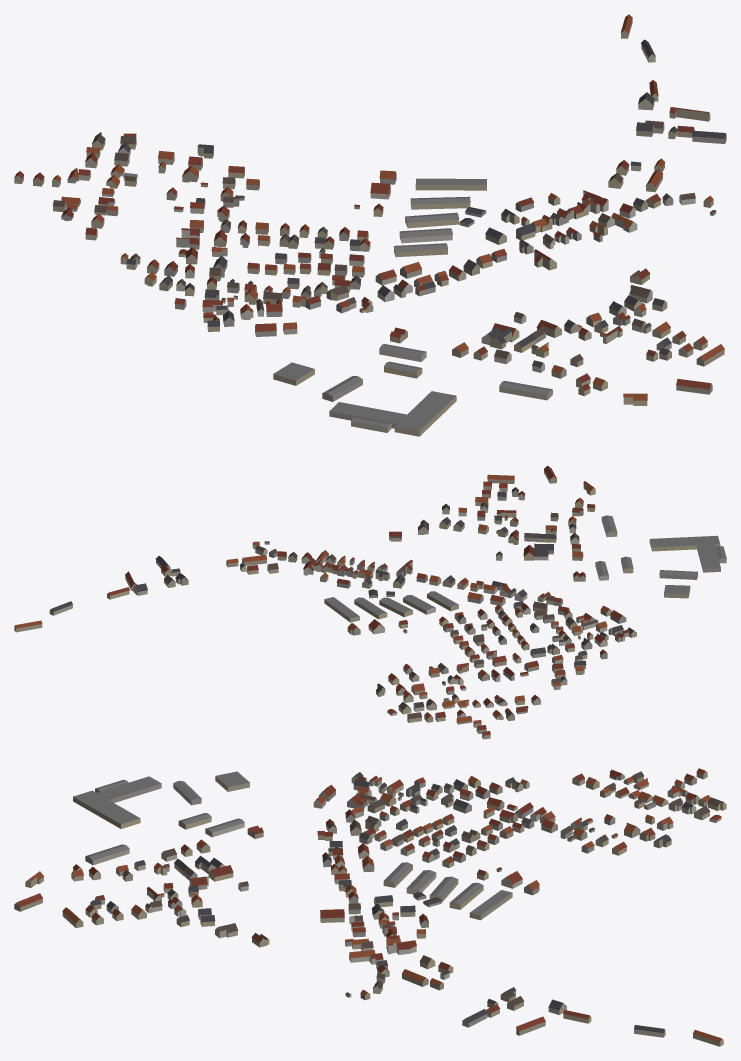
3 views of the same model, one above another, from view 1: azimuth 30°, elevation 25°; view 2: azimuth 150°, elevation 25°; view 3: azimuth 270°, elevation 25° (orthographic). The views are drawn at different scales.
Visible parts, largest first — view 1: buildings; view 2: buildings; view 3: buildings.
Boxes of the visible parts, x1,y1,x2,y2 form: buildings: [14, 14, 726, 436]; buildings: [14, 465, 726, 739]; buildings: [14, 768, 726, 1046].
Bounding box in the file's own units: 726 × 31.22 × 801.
